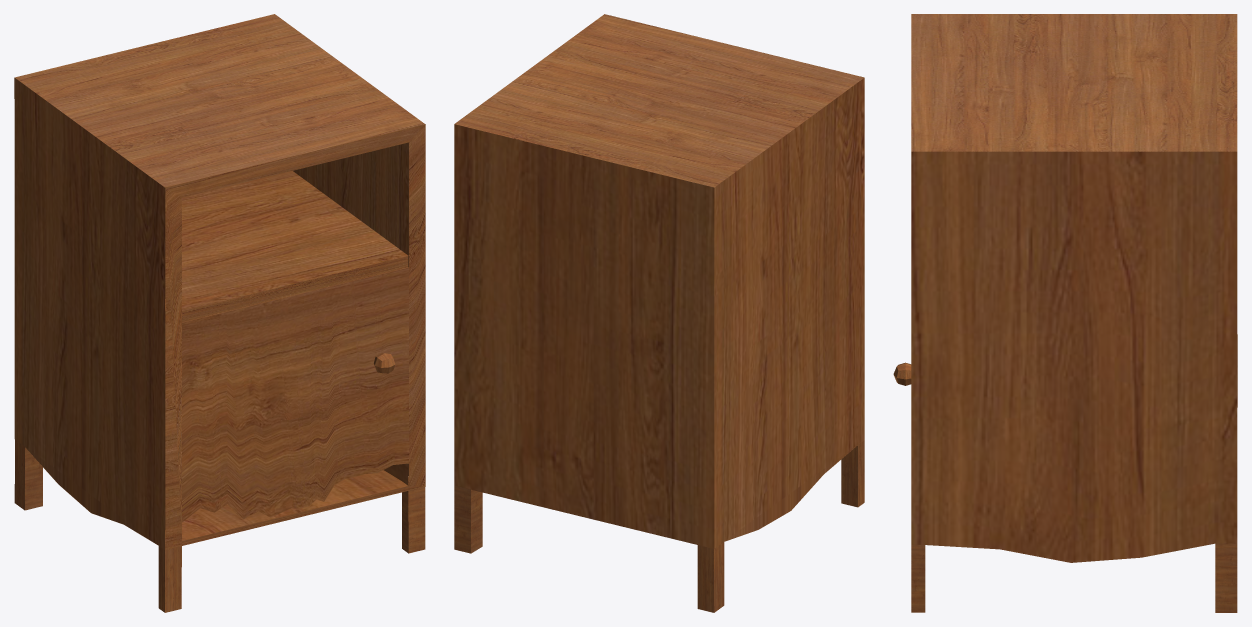
File: Mesinha_de_cabeceira 1.fbx
3 views of the same model, side by side, from view 1: azimuth 30°, elevation 25°; view 2: azimuth 150°, elevation 25°; view 3: azimuth 270°, elevation 25° (orthographic). The views are drawn at different scales.
Visible parts, largest first — view 1: Mesinha de cabeceira.022, Porta da mesinha de cabeceira, Mesinha de cabeceira.026, Mesinha de cabeceira.027, Mesinha de cabeceira.002, Mesinha de cabeceira.030, Mesinha de cabeceira.029, Mesinha de cabeceira.033, Mesinha de cabeceira.044, Mesinha de cabeceira.015, Mesinha de cabeceira.014; view 2: Mesinha de cabeceira.022, Mesinha de cabeceira.026, Mesinha de cabeceira.014, Mesinha de cabeceira.017, Mesinha de cabeceira.034, Mesinha de cabeceira.018; view 3: Mesinha de cabeceira.022, Mesinha de cabeceira.026, Mesinha de cabeceira.017, Mesinha de cabeceira.044.
Boxes of the visible parts, x1=… form: Mesinha de cabeceira.022: x1=14, y1=77, x2=408, y2=549; Porta da mesinha de cabeceira: x1=182, y1=267, x2=408, y2=522; Mesinha de cabeceira.026: x1=15, y1=14, x2=424, y2=187; Mesinha de cabeceira.027: x1=165, y1=142, x2=408, y2=310; Mesinha de cabeceira.002: x1=165, y1=124, x2=425, y2=549; Mesinha de cabeceira.030: x1=165, y1=299, x2=408, y2=540; Mesinha de cabeceira.029: x1=182, y1=256, x2=408, y2=322; Mesinha de cabeceira.033: x1=158, y1=546, x2=181, y2=612; Mesinha de cabeceira.044: x1=408, y1=487, x2=425, y2=553; Mesinha de cabeceira.015: x1=25, y1=447, x2=42, y2=510; Mesinha de cabeceira.014: x1=14, y1=439, x2=24, y2=510; Mesinha de cabeceira.022: x1=454, y1=78, x2=864, y2=548; Mesinha de cabeceira.026: x1=454, y1=14, x2=864, y2=187; Mesinha de cabeceira.014: x1=697, y1=542, x2=724, y2=612; Mesinha de cabeceira.017: x1=454, y1=485, x2=470, y2=553; Mesinha de cabeceira.034: x1=841, y1=445, x2=857, y2=507; Mesinha de cabeceira.018: x1=471, y1=489, x2=482, y2=553; Mesinha de cabeceira.022: x1=911, y1=151, x2=1237, y2=562; Mesinha de cabeceira.026: x1=911, y1=14, x2=1237, y2=151; Mesinha de cabeceira.017: x1=1215, y1=543, x2=1237, y2=612; Mesinha de cabeceira.044: x1=911, y1=545, x2=925, y2=612.
Bounding box in the file's own units: 106 × 166 × 112.
Materials: 23 (23 with a texture image).
